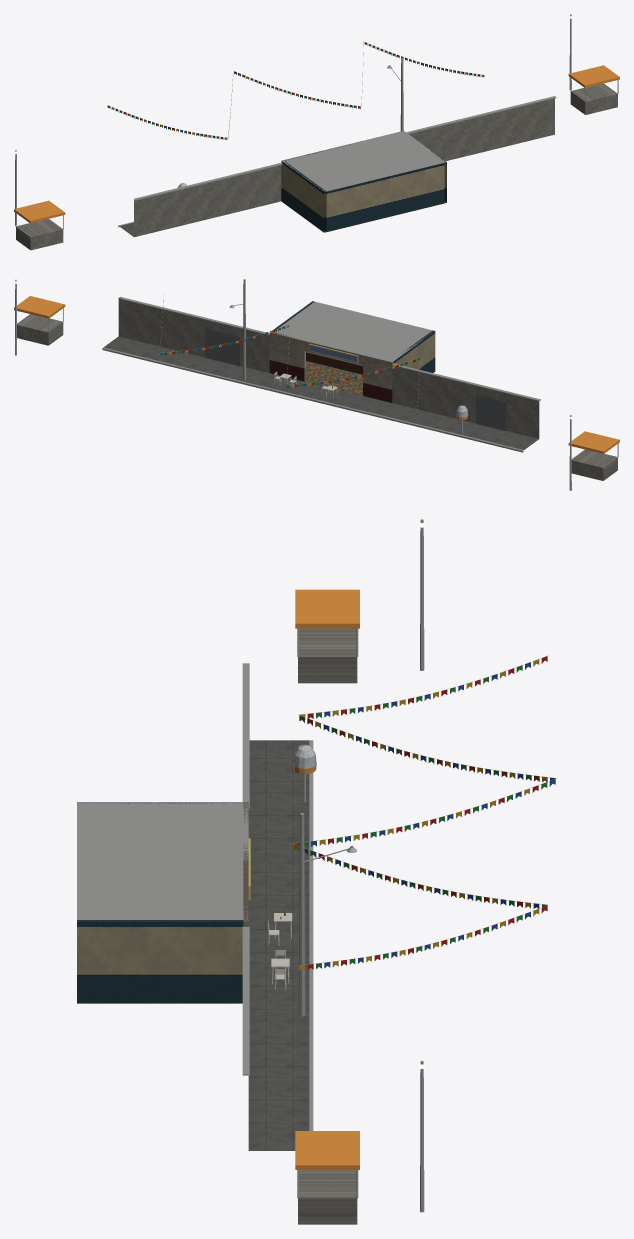
File: street.gltf
3 renders of one model, top to bottom at view 1: azimuth 30°, elevation 25°; view 2: azimuth 150°, elevation 25°; view 3: azimuth 270°, elevation 25°, orthographic. The views are drawn at different scales.
Parts seen in each view (by area): view 1: OppositeNeighbours, BarBuilding, JuninaFlags; view 2: OppositeNeighbours, BarBuilding, OppositeSidewalk, JuninaFlags, BarFurniture, SidewalkSeating; view 3: BarBuilding, OppositeSidewalk, OppositeNeighbours, JuninaFlags.
Part boxes in pixels (<box>): OppositeNeighbours: <box>14,14,619,250</box>; BarBuilding: <box>281,131,446,232</box>; JuninaFlags: <box>107,42,484,139</box>; OppositeNeighbours: <box>14,279,619,490</box>; BarBuilding: <box>269,301,435,402</box>; OppositeSidewalk: <box>102,336,538,452</box>; JuninaFlags: <box>159,295,420,418</box>; BarFurniture: <box>306,352,362,374</box>; SidewalkSeating: <box>274,371,337,398</box>; BarBuilding: <box>77,802,250,1003</box>; OppositeSidewalk: <box>248,740,313,1150</box>; OppositeNeighbours: <box>242,519,424,1224</box>; JuninaFlags: <box>293,655,556,970</box>.
Size of what is drawn, in the model's own units: 50.5 by 8.38 by 17.8.
Materials: 31 (8 with a texture image).
